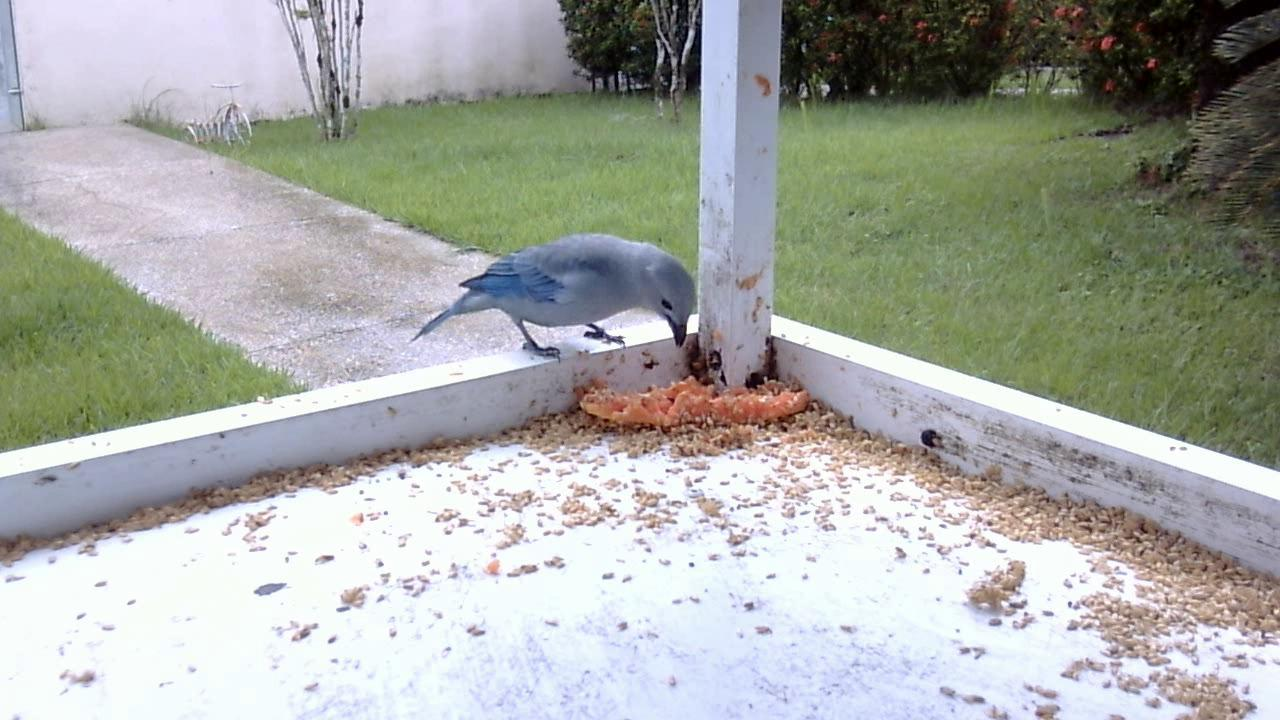sanhaco_da_amazonia: (406, 228, 698, 376)
